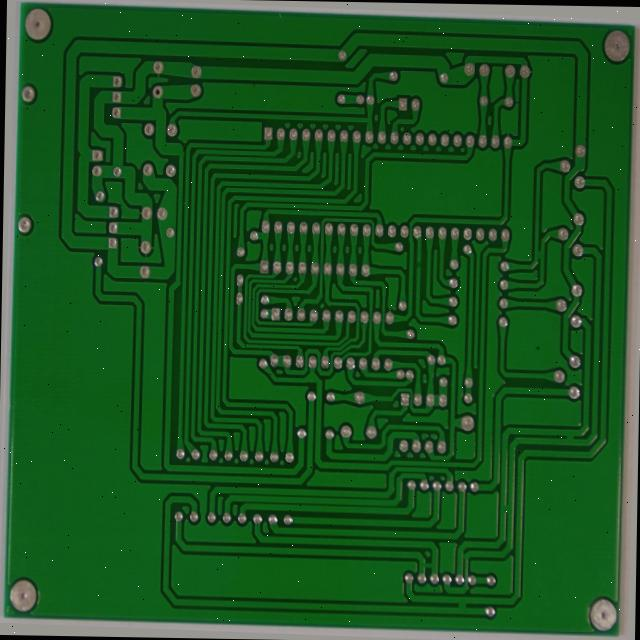short: (565, 422, 582, 445), (458, 597, 475, 618), (503, 499, 519, 517), (423, 558, 442, 573), (534, 240, 547, 255)
